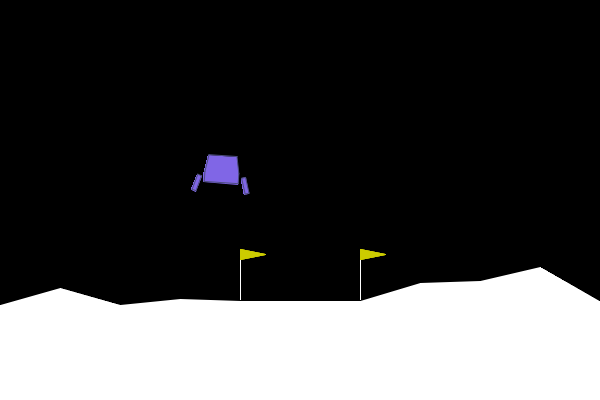lander: (190, 152, 253, 196)
